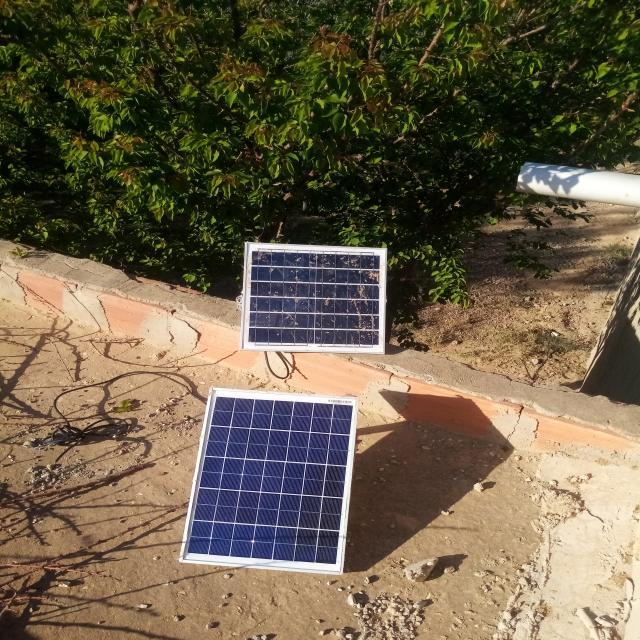faulty: (241, 243, 387, 353)
no faulty: (179, 388, 358, 574)
